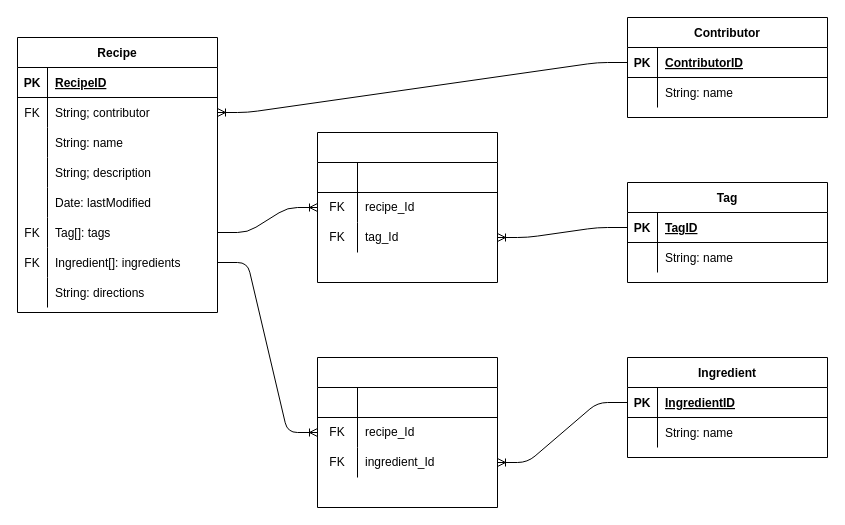
The diagram is 845 pixels wide and 525 high, and some of its shapes have lost their labels. The box of each missing label's shape, as (x1, y1, x2, y2) in pixels:
RecipeIngredients: (316, 356, 498, 508)
RecipeTags: (316, 132, 498, 282)
